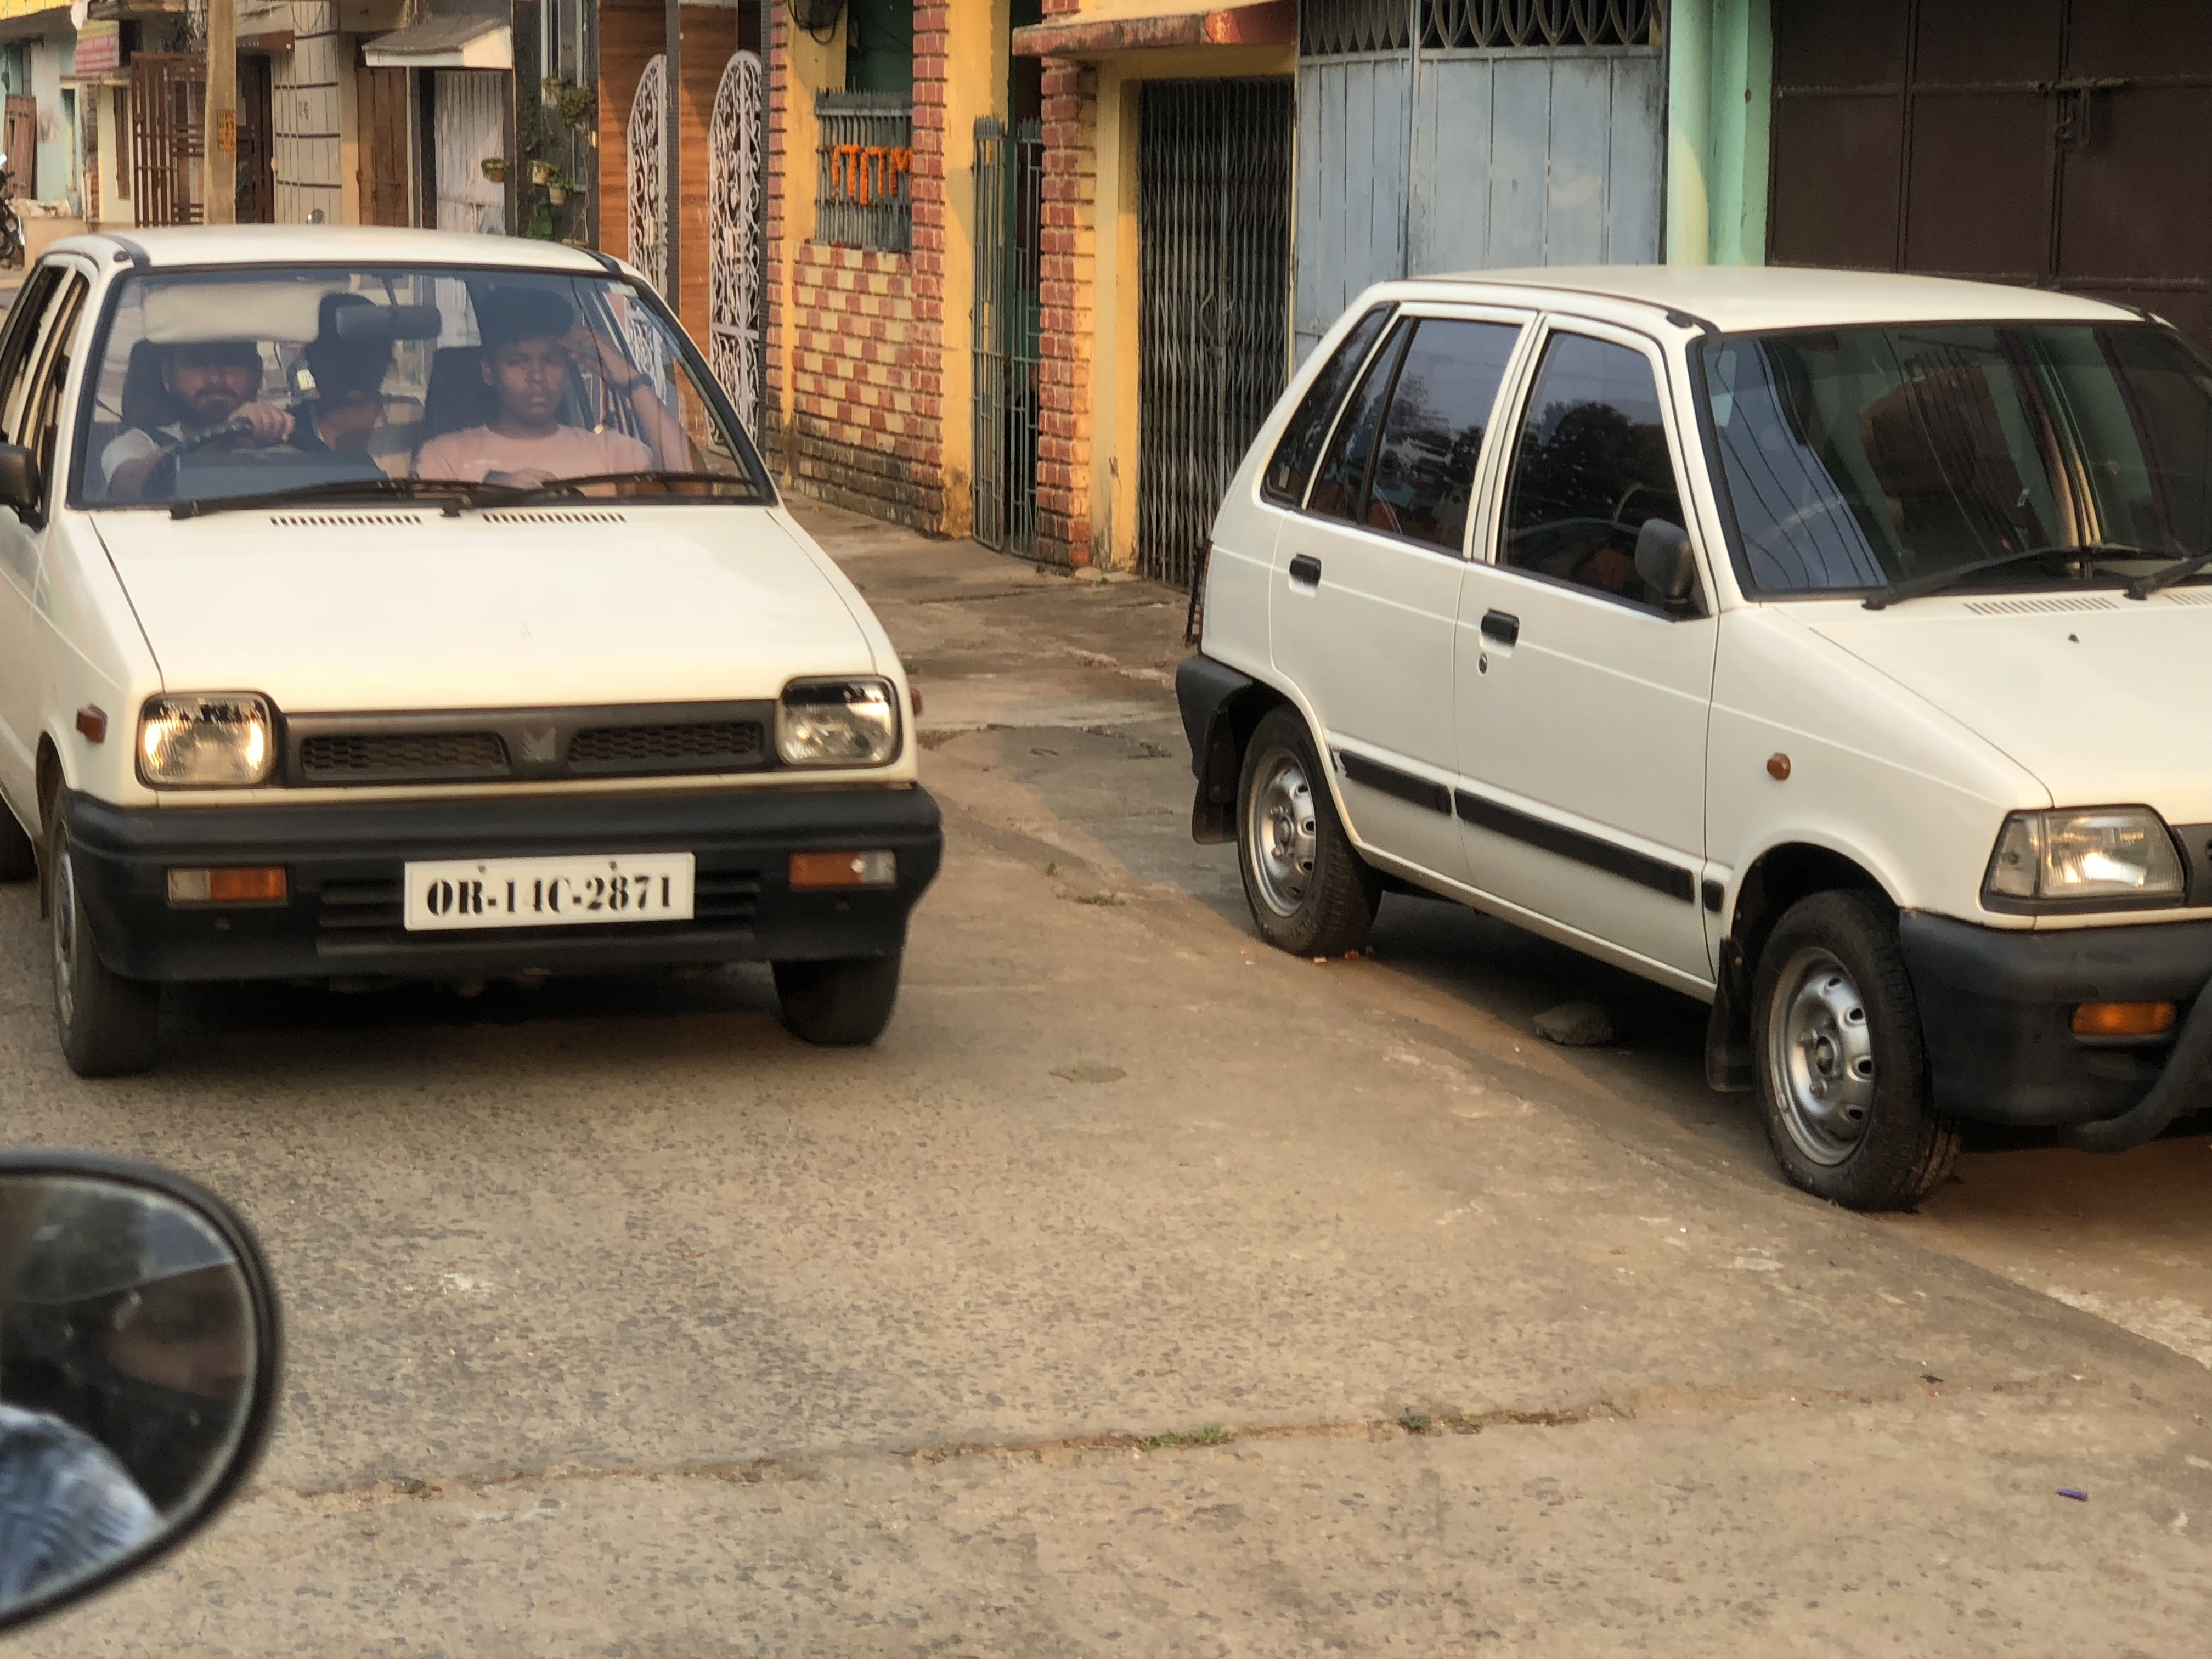licenseplate: (398, 857, 702, 939)
